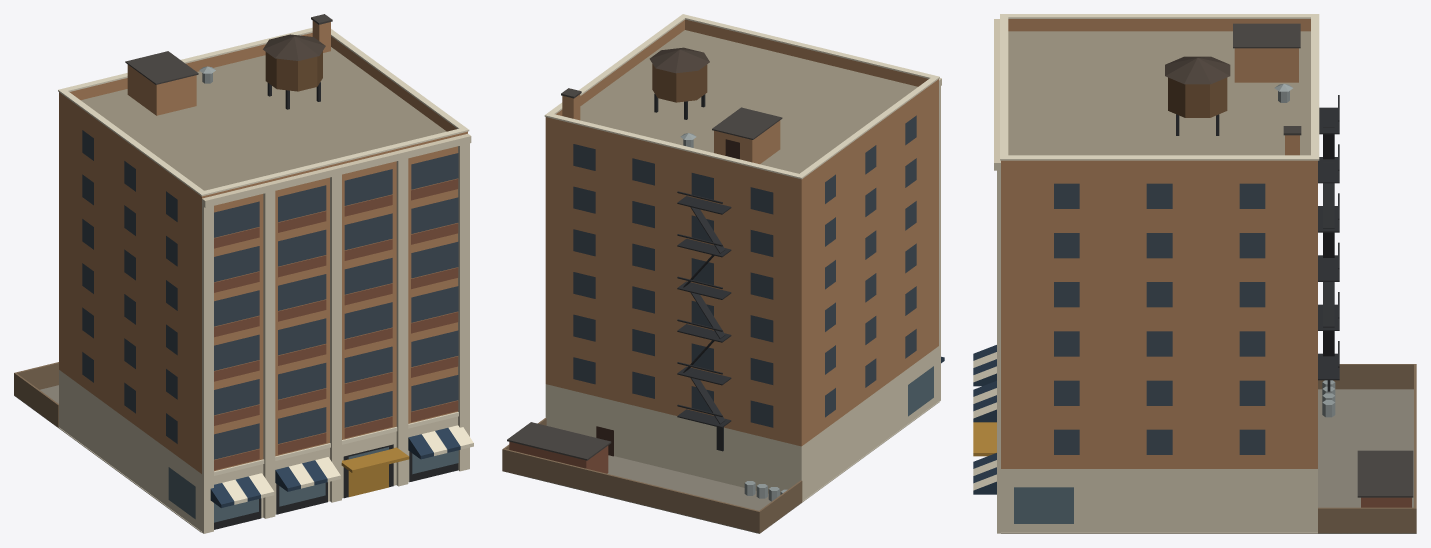
File: office_wt.glb
3 renders of one model, left to right at view 1: azimuth 30°, elevation 25°; view 2: azimuth 150°, elevation 25°; view 3: azimuth 270°, elevation 25°, orthographic. The views are drawn at different scales.
Parts seen in each view (by area): view 1: office_wt; view 2: office_wt; view 3: office_wt.
Boxes of the visible parts, left/top/right/bottom form: office_wt: left=14, top=14, right=473, bottom=533; office_wt: left=502, top=14, right=944, bottom=533; office_wt: left=973, top=14, right=1416, bottom=533.
Bounding box in the file's own units: 20 × 27.67 × 25.88.
